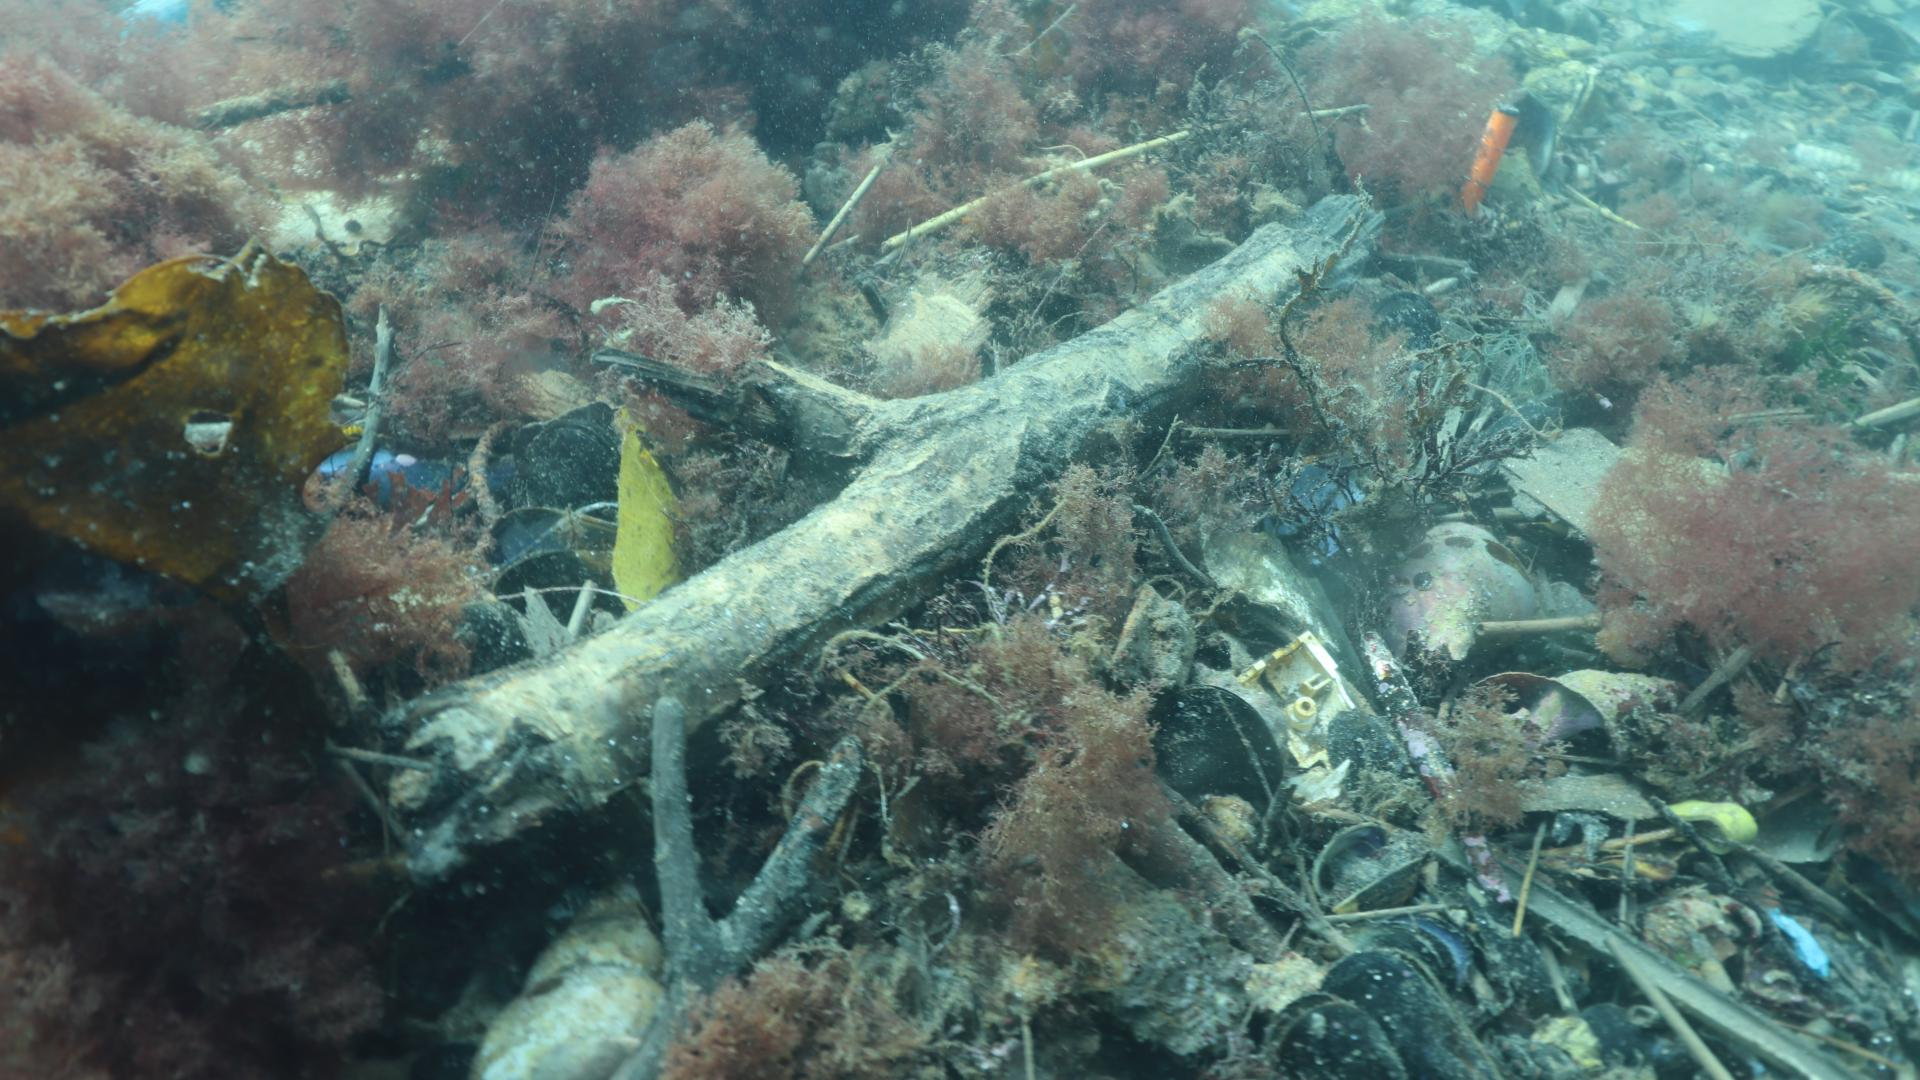wood: (384, 191, 1386, 891)
